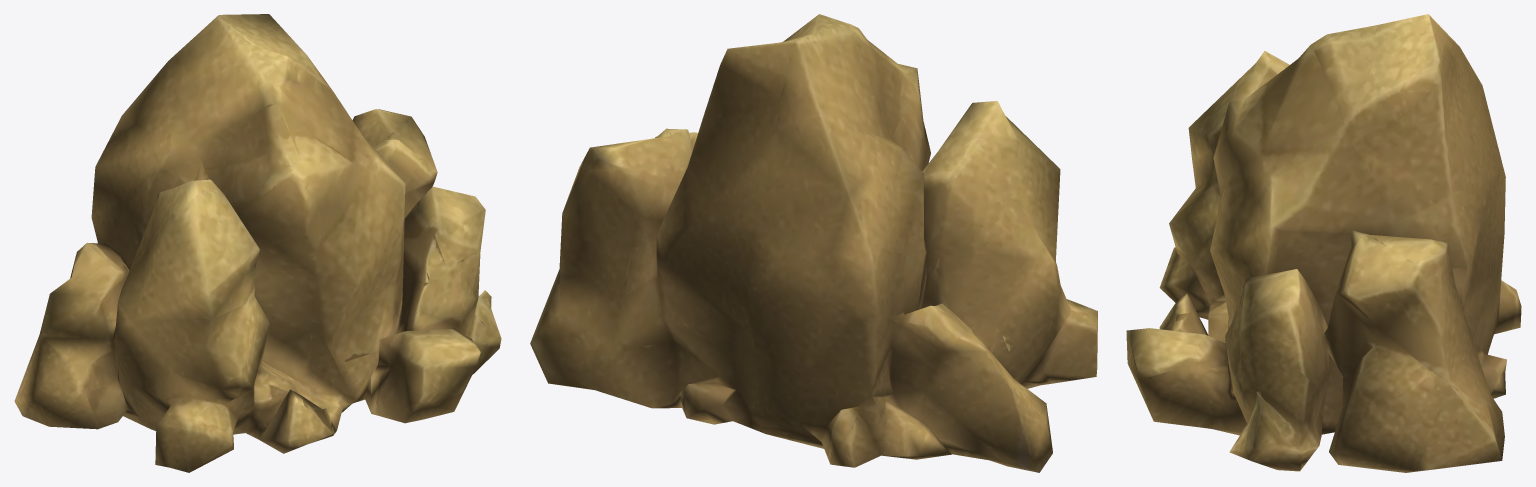
The model's file is gold.glb.
3 views of the same model, side by side, from view 1: azimuth 30°, elevation 25°; view 2: azimuth 150°, elevation 25°; view 3: azimuth 270°, elevation 25° (orthographic). The views are drawn at different scales.
Size of the model in its own units: 1.89 by 1.44 by 1.39.
Materials: 1 (1 with a texture image).
